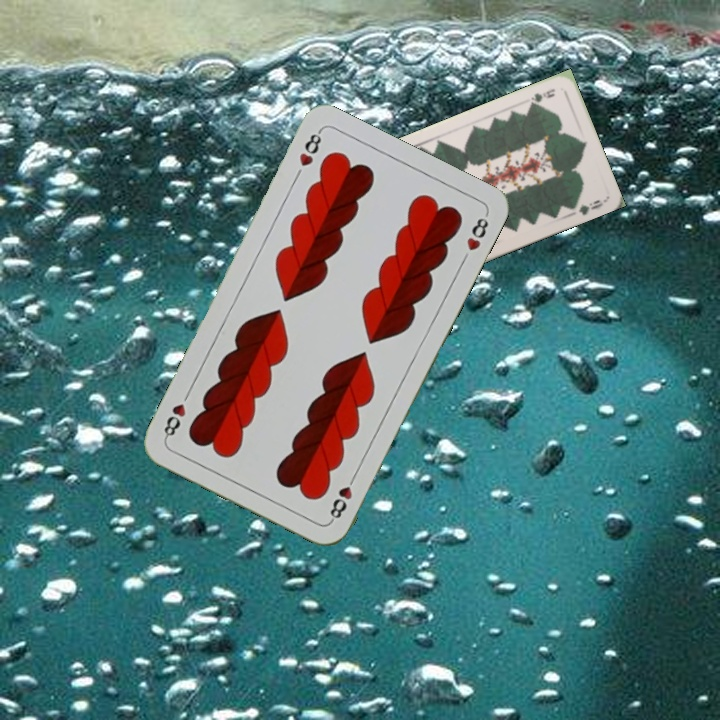G9: (525, 85, 558, 109)
H8: (325, 468, 360, 524), (295, 126, 325, 170)
